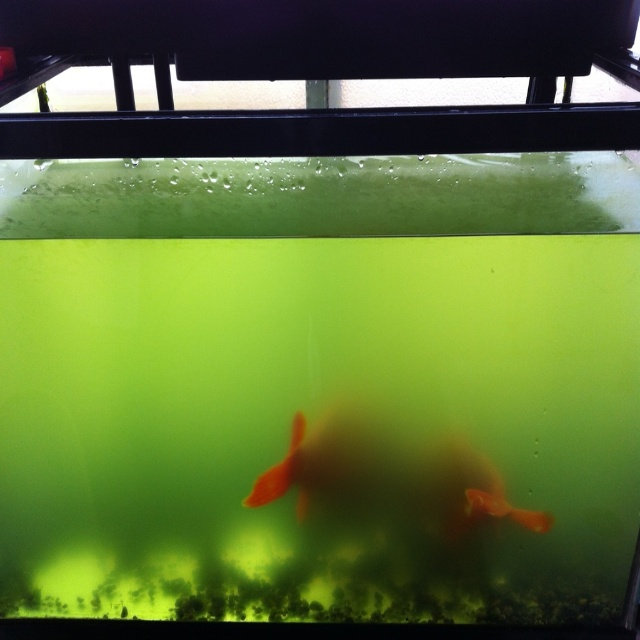Goldfish: (454, 479, 561, 559)
